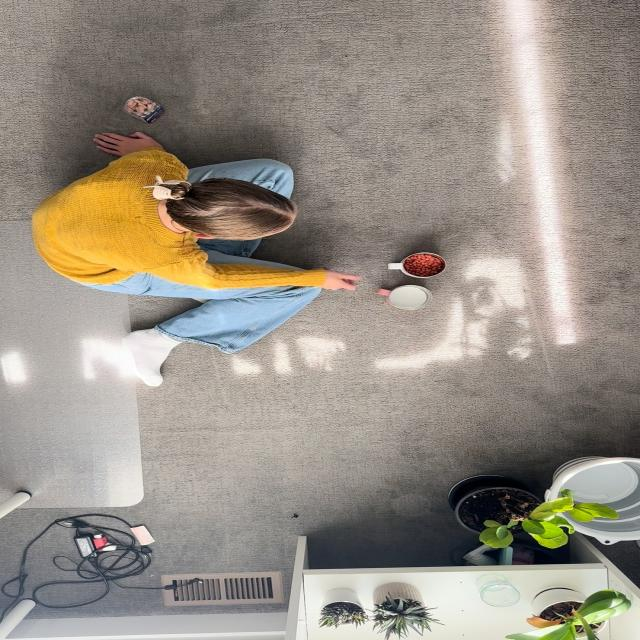IBC: (388, 252, 446, 279), (377, 285, 432, 310)
